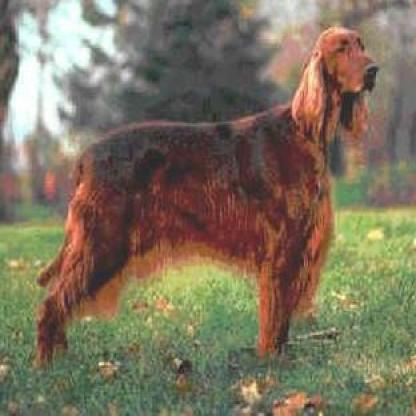Irish_setter: (29, 24, 379, 371)
